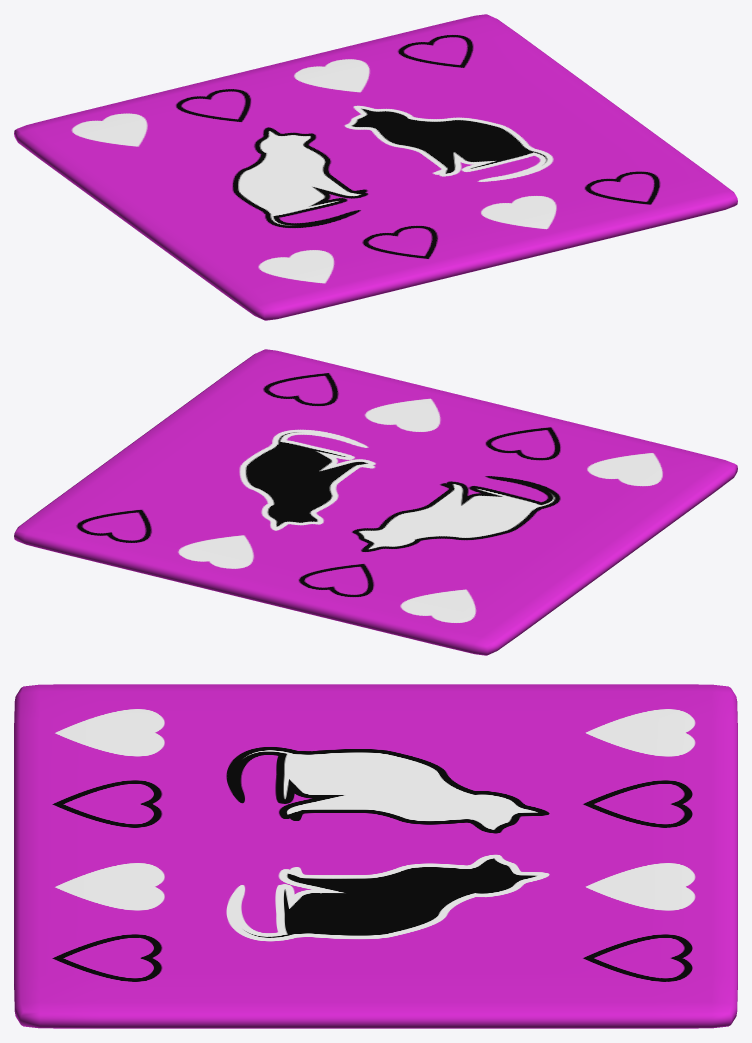
The model's file is KS_Permadani3.fbx.
The picture shows the model from 3 angles, top to bottom: view 1: azimuth 30°, elevation 25°; view 2: azimuth 150°, elevation 25°; view 3: azimuth 270°, elevation 25°; orthographic projection. The views are drawn at different scales.
Parts seen in each view (by area): view 1: KS_Permadani_2.001; view 2: KS_Permadani_2.001; view 3: KS_Permadani_2.001.
Part boxes in pixels (<box>): KS_Permadani_2.001: <box>14,14,737,320</box>; KS_Permadani_2.001: <box>14,349,737,655</box>; KS_Permadani_2.001: <box>14,684,737,1028</box>.
Bounding box in the file's own units: 218 × 6 × 200.
